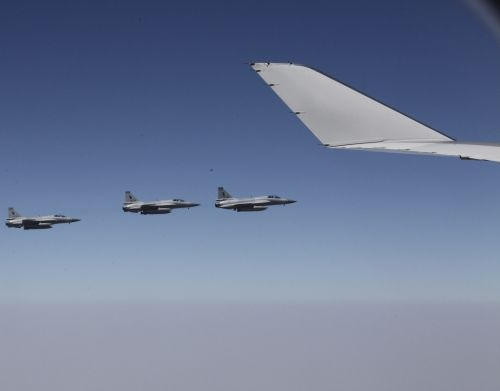airplane: (213, 188, 296, 217), (117, 191, 197, 220), (5, 204, 83, 232)
